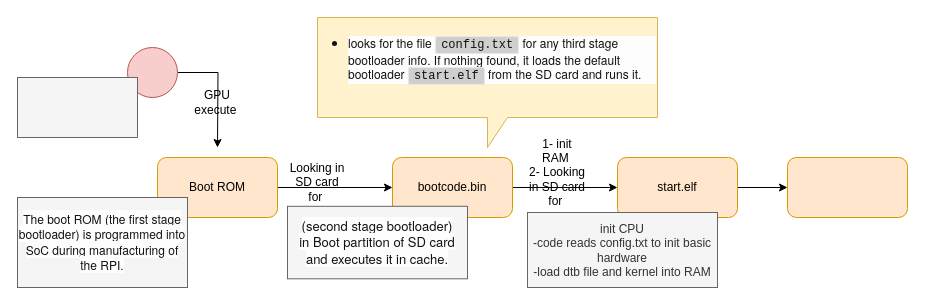
The diagram is 925 pixels wide and 305 high, and some of its shapes have lost their labels. The centre of each missing label's shape, as x and y in pixels:
"- GPU - Cache - ROM (are ready)" goes at (x=77, y=107).
"kernel" goes at (x=847, y=187).
"power on" goes at (x=152, y=72).
